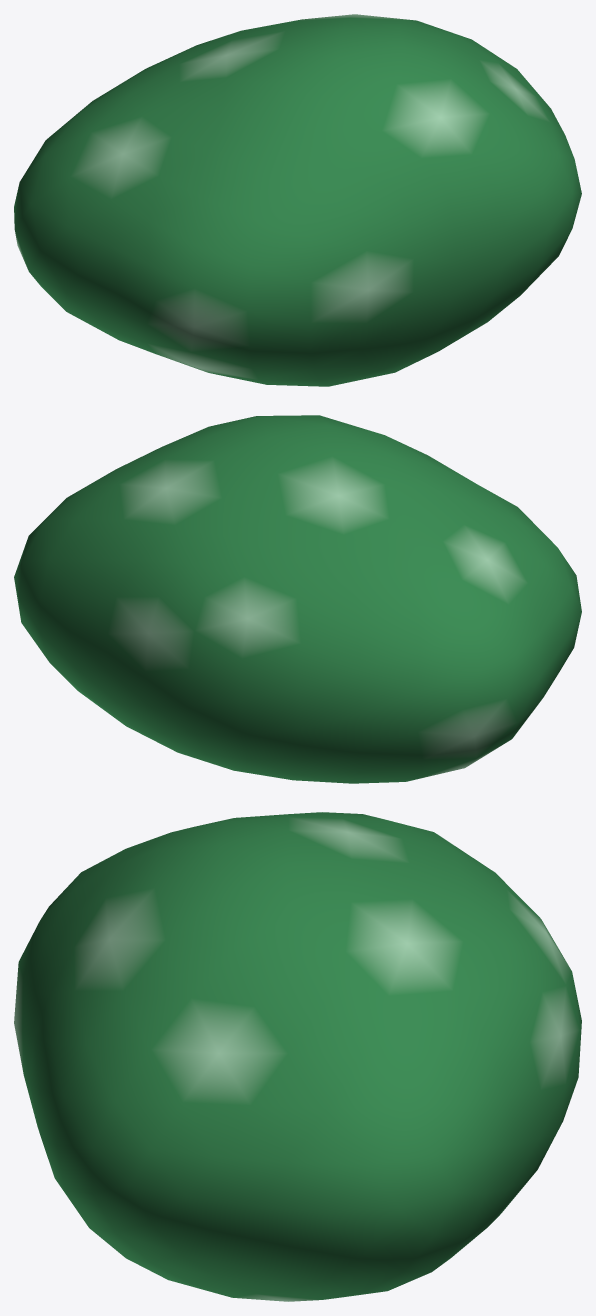
File: aventurine.glb
3 views of the same model, one above another, from view 1: azimuth 30°, elevation 25°; view 2: azimuth 150°, elevation 25°; view 3: azimuth 270°, elevation 25° (orthographic). The views are drawn at different scales.
Parts seen in each view (by area): view 1: aventurine; view 2: aventurine; view 3: aventurine.
Part boxes in pixels (x1,y1,x2,y2): aventurine: (14, 14, 581, 386); aventurine: (14, 415, 581, 783); aventurine: (14, 812, 581, 1301).
Size of the model in its own units: 0.25 by 0.1516 by 0.1882.
